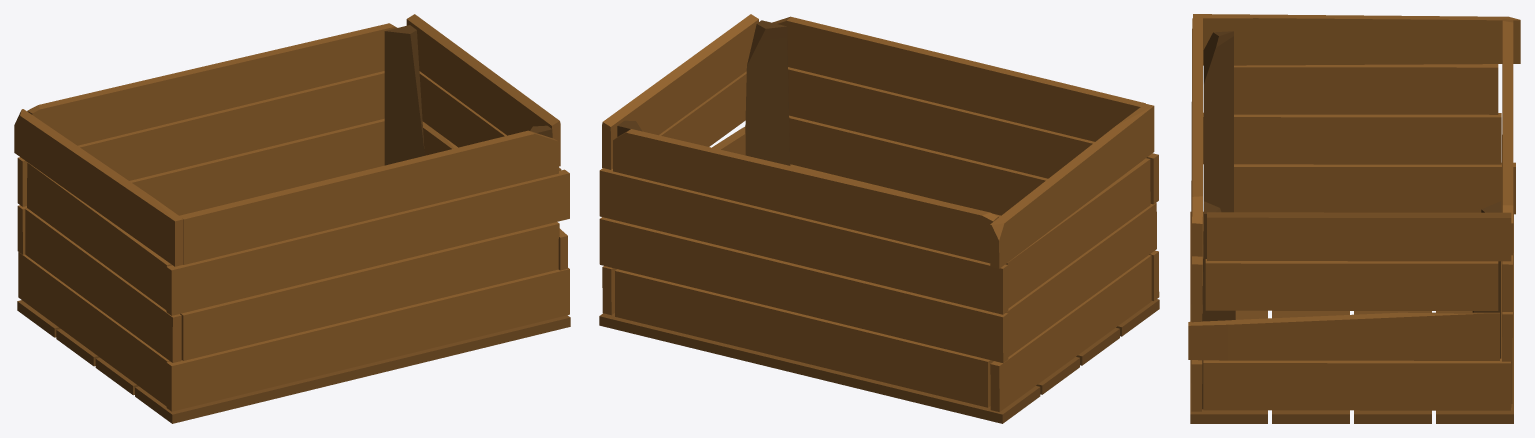
3 renders of one model, left to right at view 1: azimuth 30°, elevation 25°; view 2: azimuth 150°, elevation 25°; view 3: azimuth 270°, elevation 25°, orthographic. The views are drawn at different scales.
Parts seen in each view (by area): view 1: Cube.127, Cube.129, Cube.126, Cube.128, Cube.130, Cube.131, Cube.132, Cube.138, Cube.140, Cube.141, Cube.139, Cube.134 (+7 smaller); view 2: Cube.132, Cube.131, Cube.130, Cube.133, Cube.126, Cube.127, Cube.128, Cube.138, Cube.141, Cube.140, Cube.134, Cube.139 (+9 smaller); view 3: Cube.137, Cube.134, Cube.135, Cube.138, Cube.136, Cube.140, Cube.139, Cube.141, Cube.142, Cube.126, Cube.130, Cube.122 (+9 smaller).
Part boxes in pixels (x1,y1,x2,y2): Cube.127: [166, 169, 569, 315]; Cube.129: [166, 268, 569, 411]; Cube.126: [179, 130, 558, 264]; Cube.128: [180, 222, 559, 360]; Cube.130: [27, 23, 397, 145]; Cube.131: [17, 71, 384, 206]; Cube.132: [17, 118, 384, 254]; Cube.138: [14, 109, 183, 266]; Cube.140: [25, 208, 181, 362]; Cube.141: [18, 252, 169, 406]; Cube.139: [27, 162, 172, 309]; Cube.134: [406, 14, 560, 166]; Cube.132: [599, 217, 1008, 362]; Cube.131: [599, 168, 1008, 314]; Cube.130: [613, 129, 998, 263]; Cube.133: [615, 269, 993, 407]; Cube.126: [772, 16, 1145, 141]; Cube.127: [788, 67, 1158, 204]; Cube.128: [789, 115, 1047, 215]; Cube.138: [990, 103, 1154, 268]; Cube.141: [990, 255, 1151, 411]; Cube.140: [1006, 203, 1156, 356]; Cube.134: [602, 14, 758, 169]; Cube.139: [1005, 158, 1150, 308]; Cube.137: [1203, 358, 1511, 410]; Cube.134: [1207, 212, 1511, 261]; Cube.135: [1205, 259, 1498, 310]; Cube.138: [1193, 14, 1520, 65]; Cube.136: [1188, 312, 1499, 360]; Cube.140: [1203, 112, 1501, 164]; Cube.139: [1234, 64, 1498, 114]; Cube.141: [1234, 162, 1515, 214]; Cube.142: [1203, 31, 1233, 212]; Cube.126: [1192, 18, 1202, 256]; Cube.130: [1502, 19, 1513, 255]; Cube.122: [1190, 211, 1267, 423].
Size of the model in its own units: 336 by 162 by 232.
